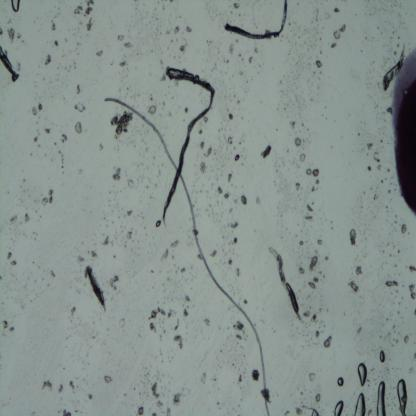Air bubble: (396, 378, 407, 416), (376, 380, 386, 416), (354, 392, 366, 416), (358, 362, 367, 388), (333, 400, 344, 416), (10, 0, 21, 13), (378, 348, 386, 364), (336, 377, 344, 387), (311, 408, 319, 416), (234, 154, 240, 162), (156, 219, 161, 228)
Anthropogenic: (103, 96, 270, 416)
Background material: (109, 110, 134, 140), (206, 1, 221, 23), (148, 306, 166, 320), (308, 255, 319, 271), (150, 382, 160, 399), (260, 388, 271, 403), (173, 334, 183, 350), (110, 274, 119, 291), (7, 28, 16, 44), (349, 228, 357, 246), (260, 146, 272, 158), (111, 167, 121, 181), (160, 249, 170, 263), (58, 150, 65, 169), (233, 319, 244, 331), (251, 368, 260, 382), (86, 17, 95, 31), (348, 281, 359, 292), (75, 101, 86, 112), (322, 336, 332, 348), (202, 148, 212, 159), (42, 380, 52, 391), (167, 308, 177, 319), (148, 322, 157, 334), (180, 39, 188, 52), (173, 394, 182, 405), (147, 104, 156, 115), (117, 318, 126, 329), (385, 280, 398, 287), (48, 189, 54, 204), (74, 122, 82, 133), (84, 6, 92, 17), (240, 195, 248, 206), (174, 318, 180, 332), (200, 162, 207, 174), (232, 1, 241, 10), (127, 178, 135, 188), (180, 388, 190, 396), (136, 405, 143, 416), (294, 182, 302, 191), (407, 283, 416, 291), (9, 216, 18, 224), (104, 375, 113, 383), (44, 54, 50, 66), (74, 6, 83, 14), (170, 240, 179, 248), (302, 310, 312, 317), (309, 280, 316, 290), (155, 400, 162, 410), (227, 136, 234, 146), (294, 137, 301, 147), (201, 373, 207, 384), (68, 380, 74, 391), (401, 224, 407, 235), (103, 235, 109, 246), (160, 72, 166, 83), (122, 42, 133, 48), (50, 20, 56, 31), (306, 204, 314, 212), (63, 408, 71, 416), (333, 31, 341, 39), (96, 49, 104, 57), (252, 46, 260, 54), (230, 222, 239, 229), (356, 266, 363, 275), (61, 134, 68, 143), (315, 59, 322, 68), (308, 373, 315, 382), (374, 151, 379, 163), (304, 215, 314, 221), (16, 60, 21, 72), (199, 140, 205, 150), (24, 213, 30, 223), (229, 42, 234, 54), (126, 230, 132, 240), (339, 24, 346, 32), (116, 34, 124, 41), (91, 250, 98, 258), (333, 6, 340, 14), (185, 25, 192, 33), (147, 93, 154, 101), (203, 318, 210, 326), (10, 259, 17, 267), (210, 250, 217, 258), (409, 266, 416, 274), (299, 154, 306, 162), (235, 266, 240, 277), (71, 306, 76, 317), (2, 320, 8, 329), (42, 197, 48, 206), (58, 384, 64, 393), (98, 142, 104, 151), (255, 196, 261, 205), (228, 112, 234, 121), (32, 106, 38, 115), (315, 393, 320, 403), (184, 308, 189, 318), (386, 332, 391, 342), (312, 169, 319, 176), (223, 193, 230, 200), (235, 333, 242, 340), (205, 39, 212, 46), (211, 64, 217, 72), (157, 166, 161, 178), (78, 254, 84, 262), (296, 407, 302, 415), (119, 61, 127, 67), (289, 120, 295, 128), (311, 315, 317, 323), (165, 408, 171, 416), (242, 298, 248, 306), (306, 168, 312, 176), (384, 367, 390, 375), (367, 408, 373, 416), (356, 326, 362, 334), (411, 291, 416, 300), (316, 7, 319, 22), (404, 335, 409, 344), (174, 25, 179, 34), (50, 269, 55, 278), (227, 172, 231, 183), (127, 209, 133, 216), (87, 0, 94, 6), (248, 57, 254, 64), (330, 42, 337, 48), (7, 252, 12, 260), (228, 258, 233, 266), (311, 185, 316, 193), (368, 142, 373, 150), (38, 103, 43, 111), (180, 267, 186, 273), (317, 239, 323, 245), (299, 267, 305, 273), (7, 18, 13, 24), (10, 325, 14, 334), (75, 276, 81, 282), (203, 116, 209, 122), (87, 394, 93, 400), (76, 85, 80, 94), (164, 30, 170, 36), (284, 410, 290, 416), (44, 128, 50, 134), (185, 296, 191, 302), (238, 70, 244, 76), (373, 194, 379, 200), (238, 375, 243, 382), (409, 366, 414, 373), (315, 331, 320, 338), (36, 128, 40, 136), (326, 12, 330, 20), (140, 176, 144, 184), (160, 59, 164, 67), (76, 288, 80, 296), (234, 236, 238, 244), (184, 107, 189, 113), (315, 178, 320, 184), (74, 408, 79, 414), (312, 277, 318, 282), (143, 373, 149, 378), (212, 150, 217, 156), (56, 409, 62, 414), (292, 20, 298, 25), (173, 80, 178, 86), (198, 128, 203, 134), (218, 187, 223, 193), (228, 209, 234, 214), (198, 253, 202, 260), (54, 40, 58, 47), (17, 32, 21, 39), (30, 411, 35, 416), (299, 241, 304, 246), (125, 73, 130, 78), (113, 252, 116, 260), (168, 110, 172, 116), (272, 328, 276, 334), (310, 96, 314, 102), (232, 92, 236, 98), (315, 27, 318, 35), (225, 58, 229, 64), (162, 3, 165, 11), (343, 309, 346, 317), (378, 165, 382, 171), (162, 100, 166, 106), (312, 70, 316, 76), (368, 165, 372, 171), (34, 136, 38, 142), (150, 412, 156, 416), (110, 240, 114, 246), (159, 334, 162, 341), (0, 28, 3, 35), (22, 178, 26, 183), (397, 12, 401, 17), (371, 367, 375, 372), (108, 190, 112, 195), (396, 43, 400, 48), (394, 50, 398, 55), (387, 168, 391, 173), (324, 256, 328, 261), (154, 182, 158, 187), (230, 240, 234, 245), (238, 140, 242, 145), (212, 377, 217, 381), (169, 0, 173, 5), (78, 169, 82, 174), (366, 379, 371, 383), (145, 184, 149, 189), (141, 215, 145, 220), (300, 390, 303, 396), (170, 38, 173, 44), (397, 310, 400, 316), (392, 324, 395, 330), (286, 147, 289, 153), (219, 349, 223, 353), (319, 50, 323, 54), (387, 189, 391, 193), (368, 12, 372, 16), (217, 325, 221, 329), (46, 283, 50, 287), (314, 342, 318, 346), (238, 53, 242, 57), (278, 80, 282, 84), (376, 26, 380, 30), (216, 401, 220, 405), (386, 243, 390, 247), (292, 32, 296, 36), (126, 87, 130, 91), (258, 63, 262, 67), (150, 49, 154, 53), (65, 336, 69, 340), (76, 42, 80, 46), (79, 21, 83, 25), (158, 31, 162, 35), (217, 128, 221, 132), (414, 308, 416, 316), (236, 100, 240, 104), (44, 153, 47, 158), (319, 307, 322, 312), (288, 21, 291, 26), (301, 122, 304, 127), (134, 230, 137, 235), (228, 241, 231, 246), (39, 214, 42, 219), (396, 339, 399, 344), (143, 382, 146, 387), (394, 220, 397, 225), (323, 274, 326, 279), (414, 352, 416, 359), (137, 93, 140, 97), (146, 147, 148, 153), (57, 66, 60, 70), (92, 336, 96, 339), (379, 335, 382, 339), (393, 396, 396, 400), (238, 12, 241, 16), (159, 352, 162, 356), (64, 66, 67, 70), (236, 39, 239, 43), (133, 387, 136, 391), (381, 179, 384, 183), (324, 105, 327, 109), (398, 36, 401, 40), (246, 78, 248, 84), (124, 244, 127, 248), (123, 393, 127, 396), (150, 270, 154, 273), (30, 153, 33, 157), (37, 144, 41, 147), (149, 73, 152, 77), (87, 250, 90, 254), (119, 88, 121, 94), (394, 264, 397, 268), (365, 37, 368, 41), (157, 0, 160, 4), (232, 362, 235, 366), (237, 404, 240, 408), (186, 304, 189, 308), (51, 158, 54, 162), (130, 228, 134, 231), (304, 40, 307, 44), (275, 128, 278, 132), (76, 385, 79, 389), (171, 255, 174, 259), (317, 76, 320, 80), (391, 344, 394, 348), (222, 248, 225, 252), (233, 146, 236, 150), (1, 301, 4, 305), (25, 234, 28, 238), (320, 330, 324, 333), (360, 49, 363, 53), (149, 195, 152, 199), (106, 223, 108, 228), (43, 77, 45, 82), (310, 336, 312, 341), (87, 351, 89, 356), (363, 190, 365, 195), (393, 330, 395, 335), (65, 37, 67, 42), (0, 276, 2, 281), (288, 38, 290, 43), (398, 249, 400, 254), (301, 334, 304, 337), (320, 272, 323, 275), (27, 277, 30, 280), (67, 69, 70, 72), (330, 221, 333, 224), (240, 398, 243, 401), (69, 286, 72, 289), (413, 341, 416, 344), (309, 63, 312, 66), (80, 411, 83, 414), (115, 237, 118, 240), (325, 117, 328, 120), (405, 266, 408, 269), (392, 301, 395, 304), (345, 413, 348, 416), (400, 316, 403, 319), (33, 237, 36, 240), (330, 146, 333, 149), (283, 74, 286, 77), (281, 35, 284, 38), (73, 62, 76, 65), (36, 233, 39, 236), (396, 290, 399, 293), (35, 121, 38, 124), (392, 31, 395, 34), (111, 62, 113, 66), (386, 205, 388, 209), (393, 338, 395, 342), (384, 119, 386, 123), (161, 359, 163, 363), (320, 114, 324, 116), (324, 324, 326, 328), (284, 107, 286, 111), (405, 306, 407, 310), (385, 177, 387, 181), (82, 360, 84, 364), (395, 294, 397, 298), (74, 65, 76, 69), (312, 201, 314, 205), (380, 140, 384, 142), (306, 333, 308, 337), (389, 254, 391, 258), (331, 226, 333, 230), (393, 244, 395, 248), (390, 36, 392, 40), (320, 70, 322, 74), (358, 132, 360, 136), (168, 278, 170, 282), (297, 2, 299, 6), (230, 11, 232, 15), (154, 18, 158, 20), (130, 95, 132, 99), (70, 319, 72, 323), (306, 128, 308, 132), (32, 260, 34, 264), (386, 318, 388, 322), (308, 47, 310, 51), (38, 115, 40, 119), (280, 38, 282, 42), (73, 32, 75, 36), (392, 366, 394, 370), (402, 296, 404, 300), (104, 216, 106, 220), (164, 330, 166, 334), (67, 327, 70, 329), (288, 52, 290, 55), (69, 335, 71, 338), (61, 55, 64, 57), (58, 7, 60, 10), (372, 349, 374, 352), (319, 38, 322, 40), (322, 26, 324, 29), (22, 40, 24, 43), (42, 278, 44, 281), (54, 142, 56, 145), (241, 58, 244, 60), (392, 26, 395, 28), (77, 53, 79, 56), (100, 318, 102, 321), (220, 71, 222, 74), (394, 188, 396, 191), (367, 384, 369, 387), (387, 404, 390, 406), (78, 27, 80, 30), (310, 45, 312, 48), (174, 56, 176, 59), (94, 243, 96, 246), (62, 171, 64, 174), (71, 326, 73, 329), (83, 378, 85, 381), (81, 242, 83, 245), (398, 301, 400, 304), (54, 15, 56, 18), (33, 22, 36, 24), (43, 269, 45, 272), (38, 266, 40, 269), (162, 374, 164, 377), (408, 232, 410, 235), (391, 292, 393, 295), (137, 52, 138, 57), (68, 29, 70, 31), (63, 368, 65, 370), (169, 360, 171, 362), (74, 28, 76, 30), (383, 250, 384, 254), (58, 13, 60, 15), (139, 393, 141, 395), (30, 300, 32, 302), (159, 380, 161, 382), (297, 61, 298, 65), (100, 343, 102, 345), (76, 378, 78, 380), (93, 321, 94, 325), (402, 285, 404, 287), (403, 22, 405, 24), (91, 345, 92, 348), (107, 328, 108, 331), (245, 338, 246, 341), (66, 345, 67, 348), (309, 345, 310, 347), (88, 363, 89, 365), (400, 5, 401, 7), (37, 17, 38, 19), (78, 401, 80, 402), (258, 72, 259, 74)
Cellulose filter fibre: (161, 65, 218, 225), (223, 0, 288, 39), (267, 247, 301, 321), (383, 44, 405, 92), (86, 266, 104, 310), (0, 46, 19, 82)
Pen: (392, 52, 416, 216)
